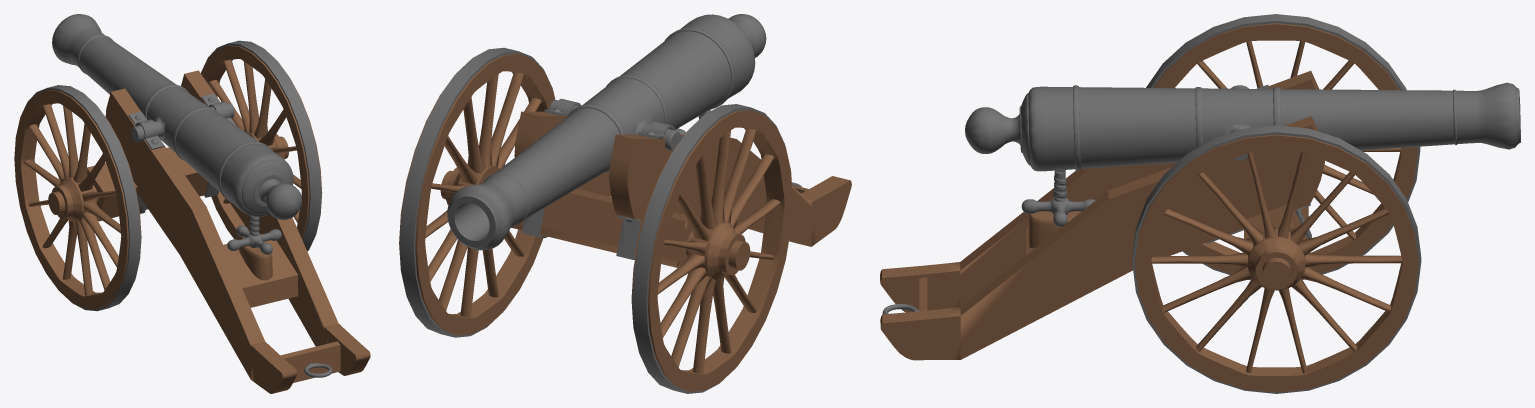
File: civil-war-cannon.fbx
The picture shows the model from 3 angles, left to right: view 1: azimuth 30°, elevation 25°; view 2: azimuth 150°, elevation 25°; view 3: azimuth 270°, elevation 25°; orthographic projection. The views are drawn at different scales.
Parts seen in each view (by area): view 1: Object_6, Object_4, Object_7, Object_5, Object_2, Object_3; view 2: Object_6, Object_4, Object_7, Object_5, Object_2; view 3: Object_6, Object_4, Object_5, Object_7, Object_2, Object_3.
Boxes of the visible parts, <box> form: Object_6: <box>14,45,369,393</box>; Object_4: <box>52,14,291,214</box>; Object_7: <box>20,40,332,377</box>; Object_5: <box>105,74,370,393</box>; Object_2: <box>70,29,302,219</box>; Object_3: <box>227,225,281,254</box>; Object_6: <box>399,53,851,391</box>; Object_4: <box>447,17,750,250</box>; Object_7: <box>399,47,801,393</box>; Object_5: <box>535,116,736,219</box>; Object_2: <box>448,14,766,247</box>; Object_6: <box>880,23,1418,392</box>; Object_4: <box>1004,82,1520,171</box>; Object_5: <box>880,79,1324,326</box>; Object_7: <box>882,14,1421,393</box>; Object_2: <box>965,85,1520,171</box>; Object_3: <box>1021,190,1095,226</box>.
Bounding box in the file's own units: 821 × 709 × 1573.
